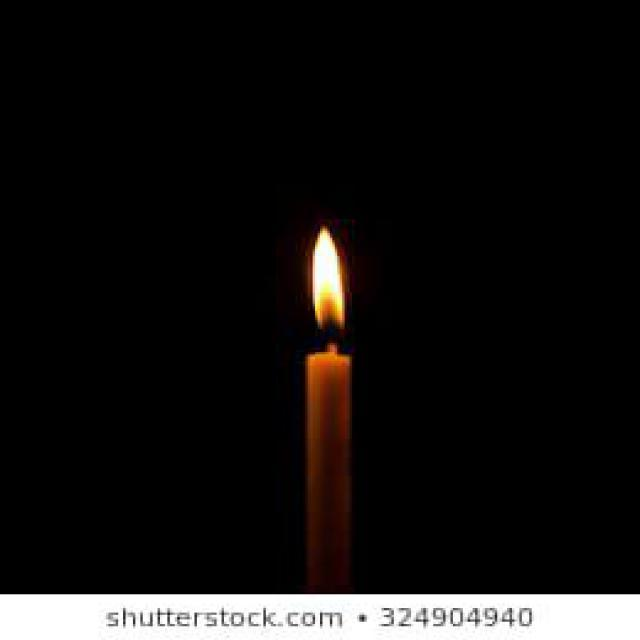Fire: (312, 225, 344, 335)
